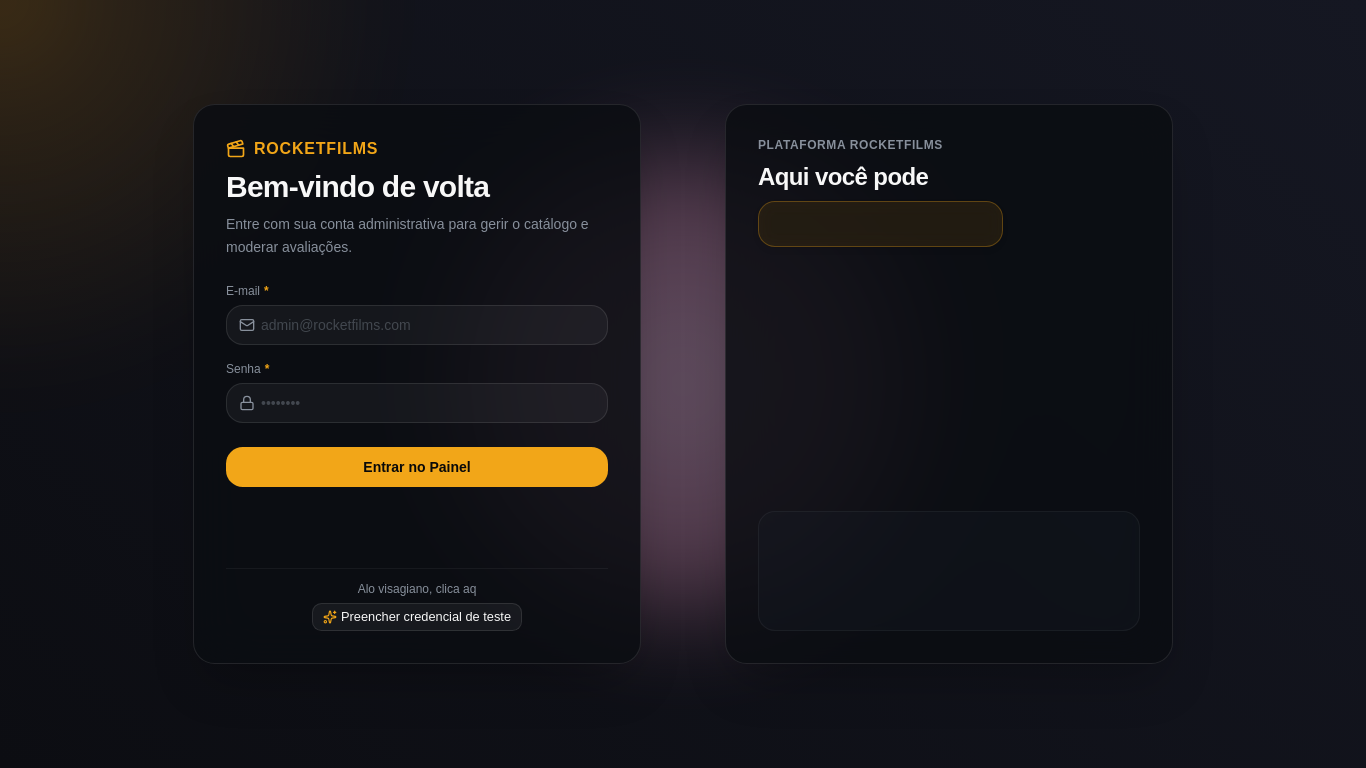
it: LoginContainer with TanStack Form and TanStack Query › renderiza os campos e preenche credenciais de teste via TanStack Form
Check: the field with placeholder "admin@rocketfilms.com" is empty, box [255, 306, 607, 344]
Check: the password field with placeholder "••••••••" is empty, box [255, 384, 607, 422]
Click the button "Preencher credencial de teste".
click(417, 617)  # box [312, 603, 522, 631]
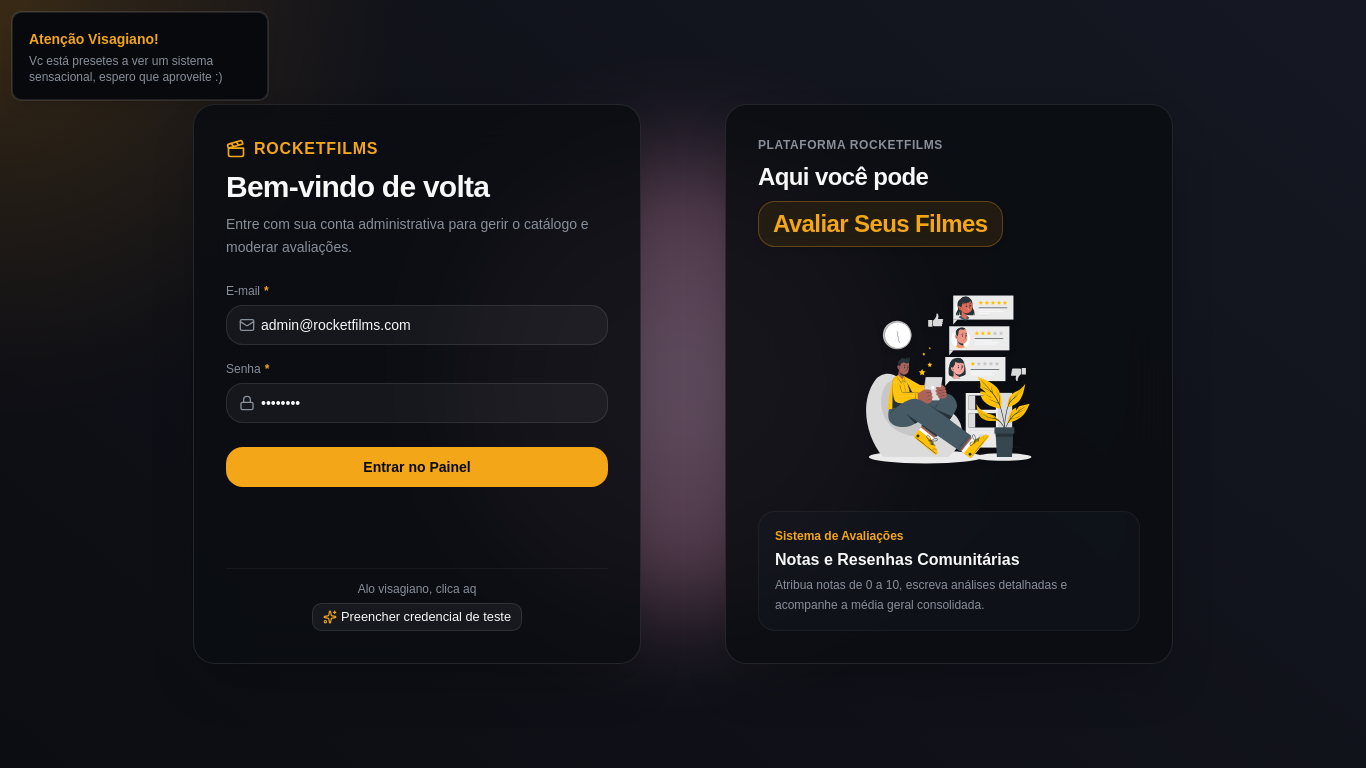
Check: the field with placeholder "admin@rocketfilms.com" holds "admin@rocketfilms.com", box [255, 306, 607, 344]
Check: the password field with placeholder "••••••••" holds "admin123", box [255, 384, 607, 422]
